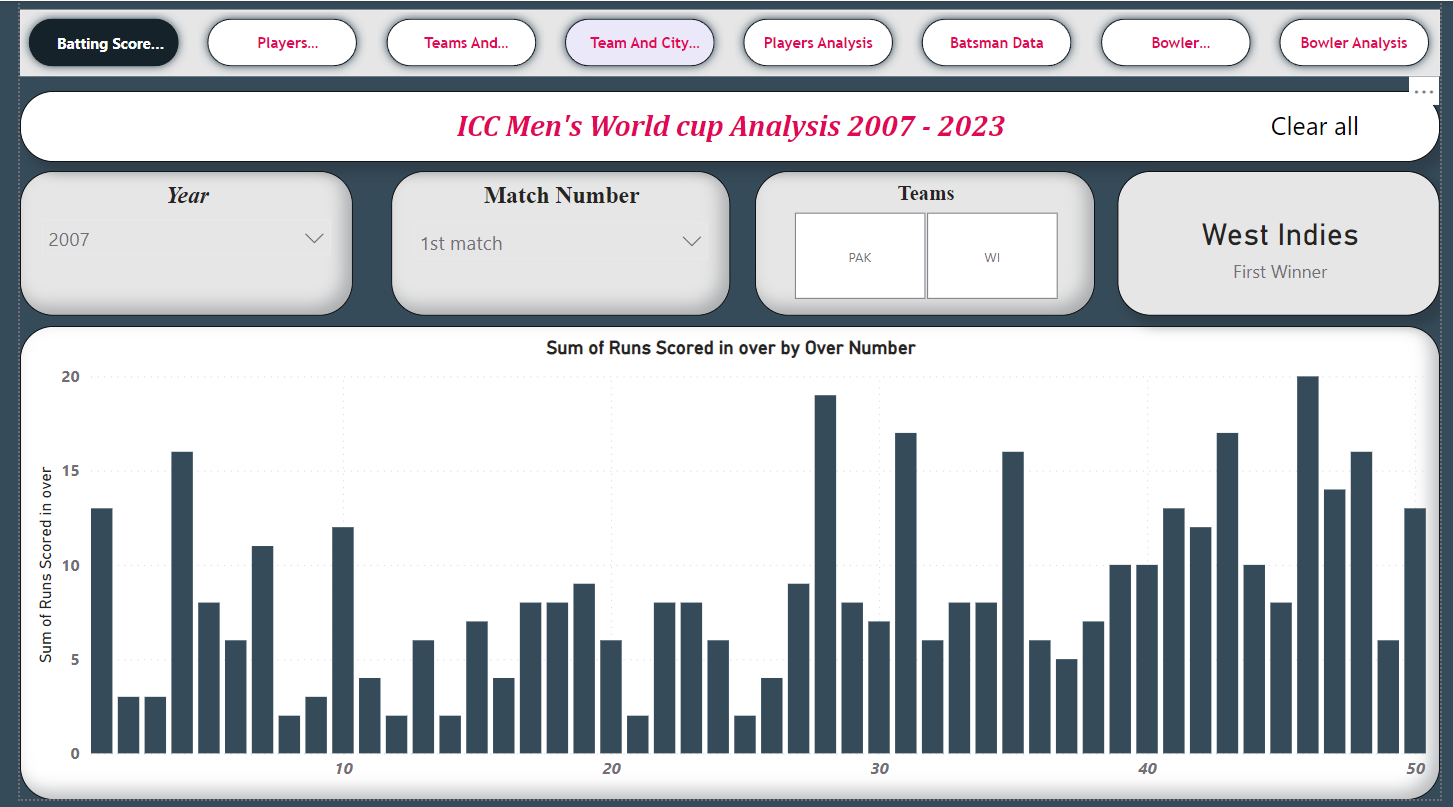

The dashboard page shown, as its layout file describes it:
{"tool":"powerbi","page":{"name":"Batting Score Trend","canvas":[1280,720],"ordinal":0},"visuals":[{"type":"columnChart","fields":{"Category":["world_cup_score (2).Over Number"],"Y":["Sum(world_cup_score (2).Runs Scored in over)"]},"box":[0,293,1280,427],"z":0},{"type":"slicer","title":"Year","fields":{"Values":["world_cup_score (2).Year"]},"box":[0,153.2,299.7,130.7],"z":1000},{"type":"slicer","title":"Match Number","fields":{"Values":["world_cup_score (2).Match Number"]},"box":[334.6,153.2,305.4,130.7],"z":2000},{"type":"slicer","title":"Teams","fields":{"Values":["world_cup_score (2).Batting team"]},"box":[662.5,153.2,306.5,130.7],"z":3000},{"type":"textbox","box":[0,81.1,1280,64.2],"z":4000},{"type":"card","title":"Winners Team","fields":{"Values":["Min(world_cup_score (2).Winner)"]},"box":[989.3,153.2,290.7,130.7],"z":5000},{"type":"actionButton","box":[1067.2,86.8,200.5,50.1],"z":6000},{"type":"pageNavigator","box":[0,7.9,1280,59.7],"z":7000}]}

Visuals, with their boxes in screenshot pixels (x1, y1, x2, y2):
columnChart - world_cup_score (2).Over Number x Sum(world_cup_score (2).Runs Scored in over): x1=15 y1=323 x2=1428 y2=795
"Year" slicer: x1=15 y1=169 x2=346 y2=313
"Match Number" slicer: x1=385 y1=169 x2=722 y2=313
"Teams" slicer: x1=746 y1=169 x2=1085 y2=313
textbox: x1=15 y1=90 x2=1428 y2=160
"Winners Team" card: x1=1107 y1=169 x2=1428 y2=313
actionButton: x1=1193 y1=96 x2=1415 y2=151
pageNavigator: x1=15 y1=9 x2=1428 y2=75
